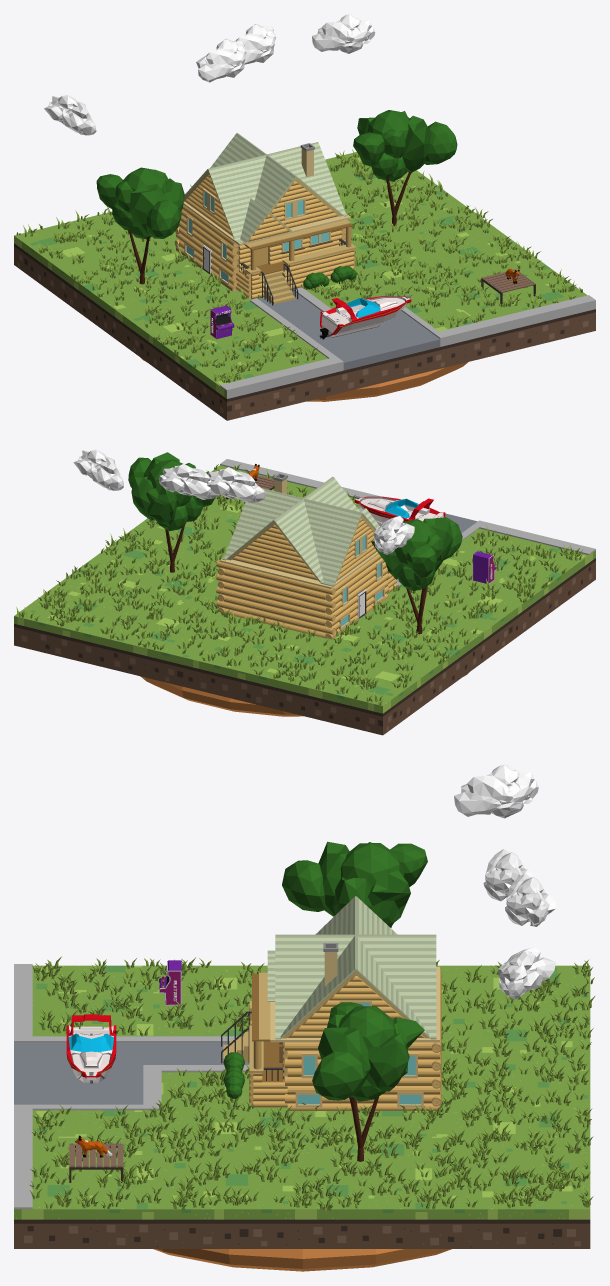
3 views of the same model, one above another, from view 1: azimuth 30°, elevation 25°; view 2: azimuth 150°, elevation 25°; view 3: azimuth 270°, elevation 25° (orthographic). The views are drawn at different scales.
Parts seen in each view (by area): view 1: Cube.006, Cube.1516, Circle.012_Grass_0.192, Cube.007, tree, tree.001, VEHICLES_BOAT, UNDERGROUND_PIZZA, Cube.009, OBJRANDOM_ARCADE; view 2: Cube.006, Cube.1516, Circle.012_Grass_0.192, Cube.007, tree.001, tree, VEHICLES_BOAT, UNDERGROUND_PIZZA, OBJRANDOM_ARCADE; view 3: Cube.006, Circle.012_Grass_0.192, Cube.1516, tree, Cube.007, tree.001, UNDERGROUND_PIZZA, VEHICLES_BOAT, Cube.009, OBJRANDOM_ARCADE.
Boxes of the visible parts, x1,y1,x2,y2 form: Cube.006: (14, 152, 595, 420); Cube.1516: (174, 133, 356, 305); Circle.012_Grass_0.192: (16, 149, 582, 382); Cube.007: (44, 14, 375, 135); tree: (353, 110, 457, 226); tree.001: (96, 167, 184, 284); VEHICLES_BOAT: (319, 295, 411, 339); UNDERGROUND_PIZZA: (141, 358, 467, 401); Cube.009: (481, 269, 535, 304); OBJRANDOM_ARCADE: (210, 305, 234, 339); Cube.006: (14, 459, 595, 735); Cube.1516: (216, 473, 397, 639); Circle.012_Grass_0.192: (16, 464, 582, 705); Cube.007: (73, 449, 414, 554); tree.001: (371, 517, 462, 634); tree: (128, 452, 214, 572); VEHICLES_BOAT: (354, 496, 445, 523); UNDERGROUND_PIZZA: (140, 673, 468, 716); OBJRANDOM_ARCADE: (473, 551, 496, 584); Cube.006: (14, 964, 590, 1248); Circle.012_Grass_0.192: (29, 956, 594, 1210); Cube.1516: (221, 896, 441, 1110); tree: (312, 1002, 424, 1161); Cube.007: (454, 764, 555, 999); tree.001: (282, 841, 427, 927); UNDERGROUND_PIZZA: (153, 1249, 451, 1271); VEHICLES_BOAT: (66, 1014, 116, 1083); Cube.009: (69, 1143, 123, 1182); OBJRANDOM_ARCADE: (159, 960, 181, 1005).
Size of the model in its own units: 4071 by 2387 by 4040.
45 materials, 4 textured.
